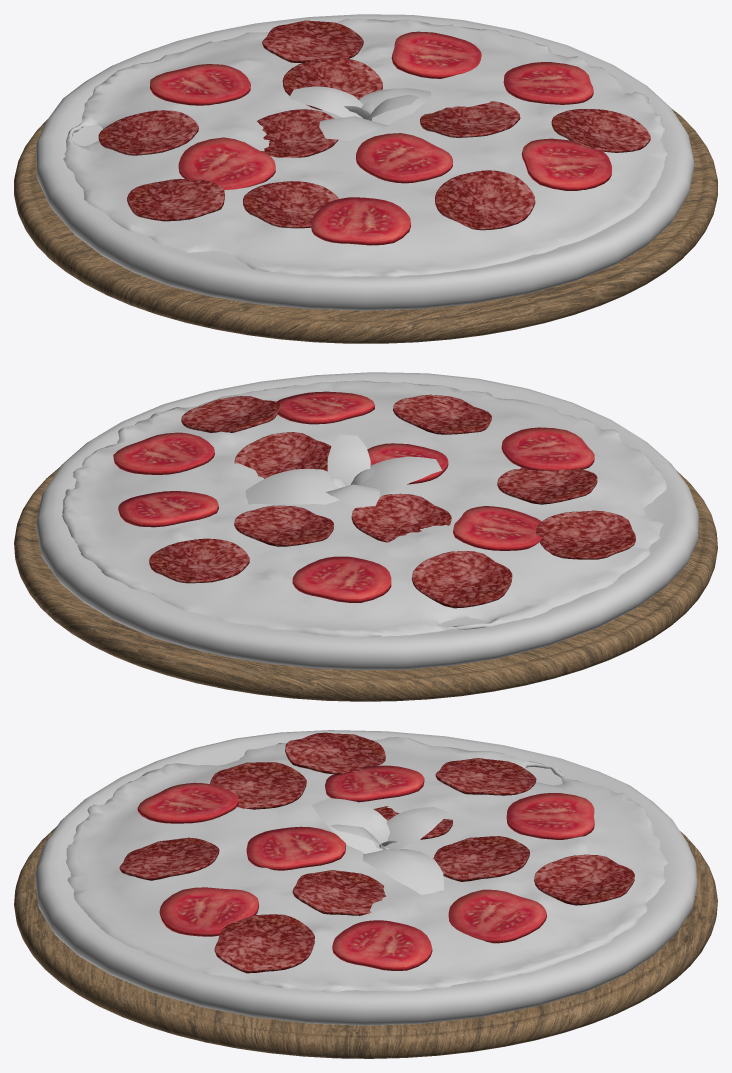
File: pizza.obj
The picture shows the model from 3 angles, top to bottom: view 1: azimuth 30°, elevation 25°; view 2: azimuth 150°, elevation 25°; view 3: azimuth 270°, elevation 25°; orthographic projection.
Parts seen in each view (by area): view 1: Cheese_Plane.000, Pizza_Pizza_OBJ.002, Salami_Circle.006, Wood_deck_Circle, Tomatoes_Circle.001, Leaves_Plane.001; view 2: Cheese_Plane.000, Pizza_Pizza_OBJ.002, Salami_Circle.006, Wood_deck_Circle, Tomatoes_Circle.001, Leaves_Plane.001; view 3: Cheese_Plane.000, Pizza_Pizza_OBJ.002, Salami_Circle.006, Wood_deck_Circle, Tomatoes_Circle.001, Leaves_Plane.001.
Boxes of the visible parts, <box> form: Cheese_Plane.000: <box>63,18,667,277</box>; Pizza_Pizza_OBJ.002: <box>35,14,694,310</box>; Salami_Circle.006: <box>98,20,650,230</box>; Wood_deck_Circle: <box>14,109,717,343</box>; Tomatoes_Circle.001: <box>150,31,611,245</box>; Leaves_Plane.001: <box>289,86,431,140</box>; Cheese_Plane.000: <box>62,380,667,636</box>; Pizza_Pizza_OBJ.002: <box>36,372,698,670</box>; Salami_Circle.006: <box>149,394,635,608</box>; Wood_deck_Circle: <box>14,466,717,701</box>; Tomatoes_Circle.001: <box>113,391,594,602</box>; Leaves_Plane.001: <box>245,435,442,507</box>; Cheese_Plane.000: <box>66,737,667,992</box>; Pizza_Pizza_OBJ.002: <box>35,730,697,1025</box>; Salami_Circle.006: <box>119,732,634,973</box>; Wood_deck_Circle: <box>14,826,717,1058</box>; Tomatoes_Circle.001: <box>137,765,594,970</box>; Leaves_Plane.001: <box>312,798,447,894</box>.
Size of the model in its own units: 0.601 by 0.0954 by 0.601.
